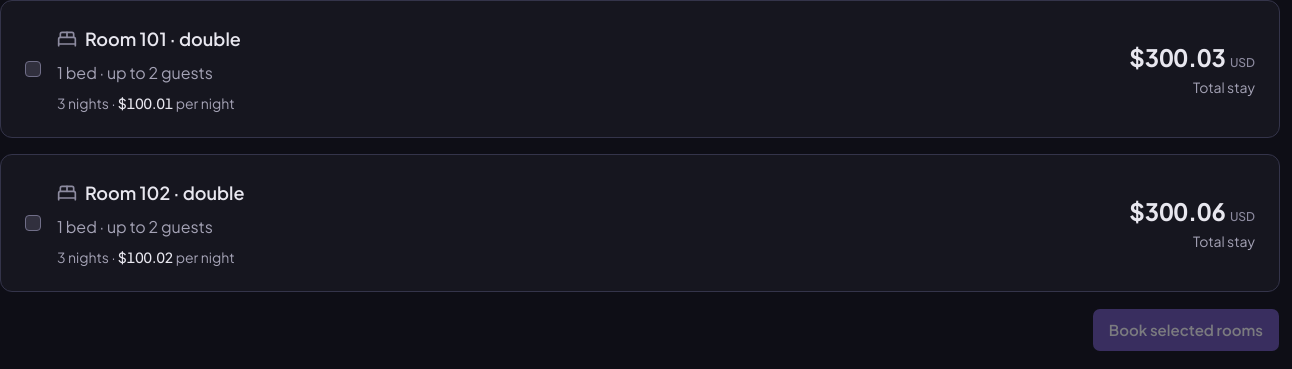
Test: Book selected rooms is disabled until a room is checked
The width and height of the screenshot is (1292, 369).
expect the button "Book selected rooms" is disabled: met, box x1=1092 y1=308 x2=1280 y2=352
Click the checkbox named "Room 101 · double" below "101" at (33, 69), box x1=25 y1=61 x2=41 y2=77
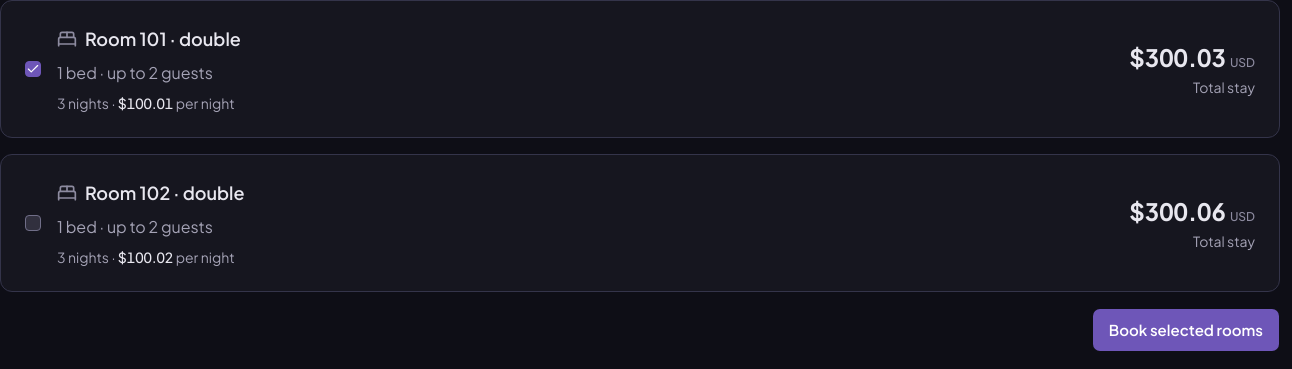
expect the button "Book selected rooms" is enabled: met, box x1=1092 y1=308 x2=1280 y2=352
Click the checkbox named "Room 101 · double" below "101" at (33, 69), box x1=25 y1=61 x2=41 y2=77
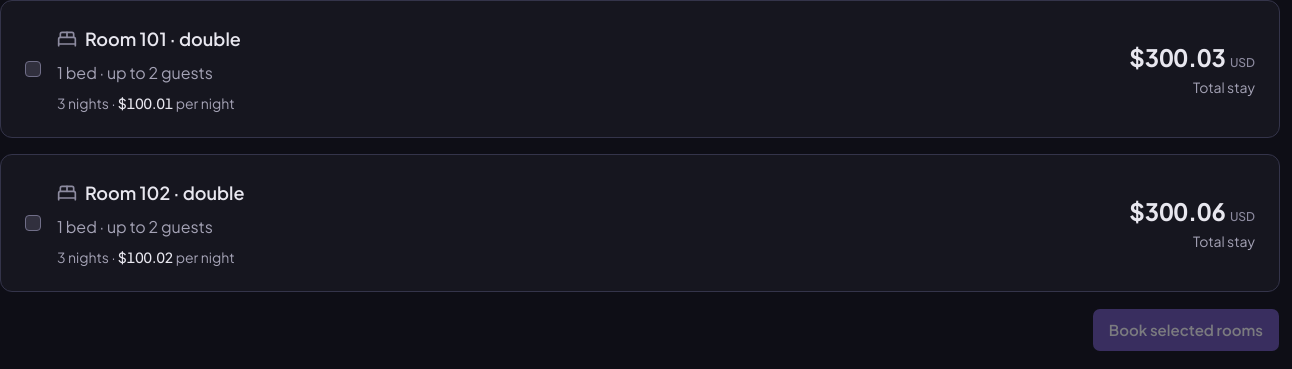
expect the button "Book selected rooms" is disabled: met, box x1=1092 y1=308 x2=1280 y2=352
